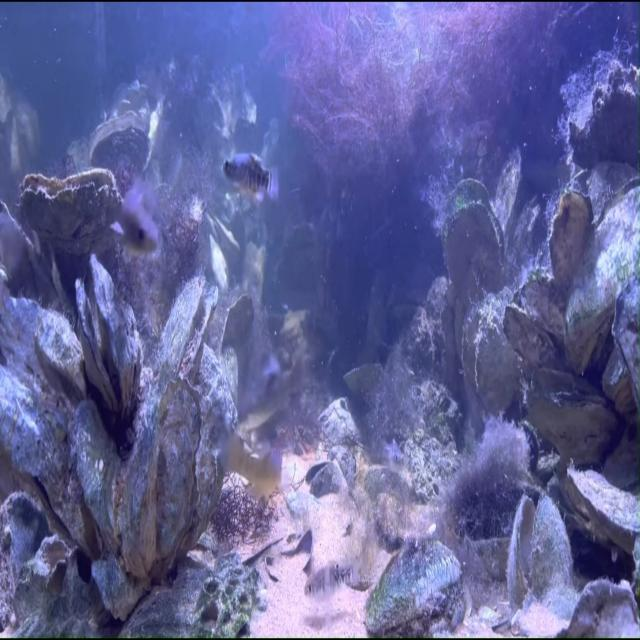Oyster-Closed: (0, 364, 85, 544), (564, 187, 640, 373), (366, 538, 465, 638), (187, 350, 237, 544), (0, 298, 86, 400), (119, 382, 162, 579), (156, 382, 200, 560), (72, 400, 121, 553), (569, 60, 639, 167), (568, 464, 640, 553), (0, 491, 49, 617), (462, 289, 511, 413), (602, 276, 640, 422), (508, 266, 564, 362), (560, 578, 640, 638), (550, 191, 592, 289), (91, 553, 149, 620), (204, 211, 241, 270)
Oyster-Open: (75, 253, 142, 418), (528, 369, 619, 469), (20, 169, 120, 256), (441, 178, 504, 309), (209, 289, 270, 413), (508, 496, 572, 609), (158, 276, 219, 380), (89, 109, 149, 196), (493, 152, 521, 237)
